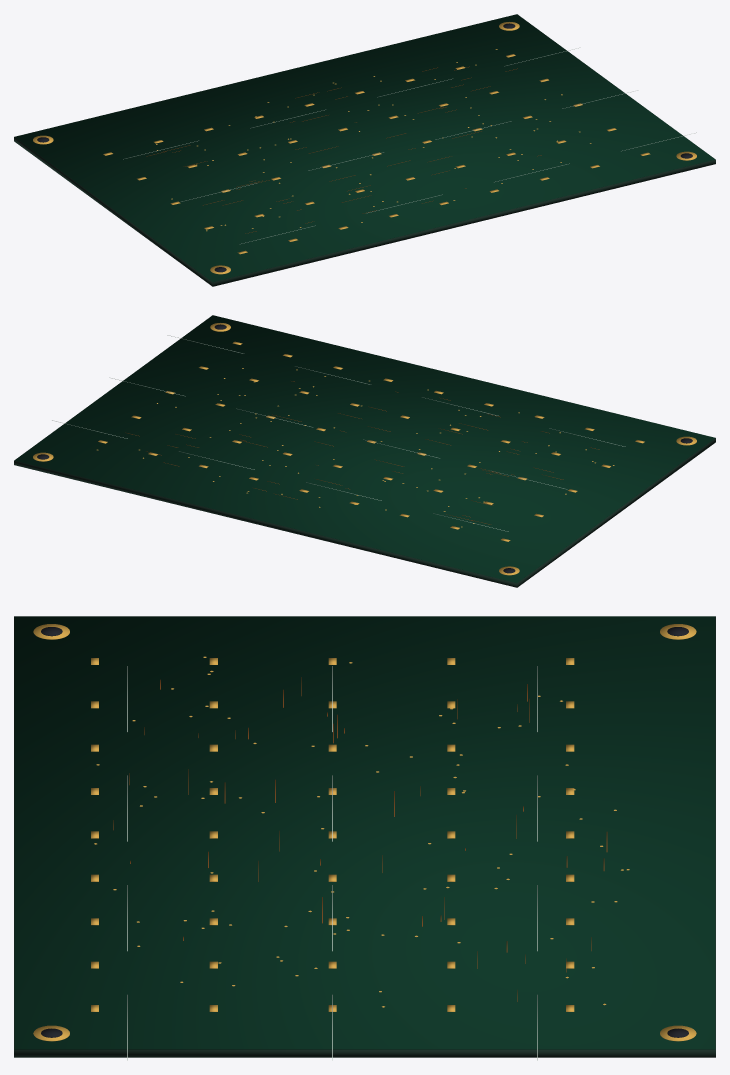
File: 63_L99_SBC7_Empty_FourLayer_PCB.fbx
3 renders of one model, top to bottom at view 1: azimuth 30°, elevation 25°; view 2: azimuth 150°, elevation 25°; view 3: azimuth 270°, elevation 25°, orthographic. The views are drawn at different scales.
Parts seen in each view (by area): view 1: Part_001, Part_000; view 2: Part_001, Part_000; view 3: Part_001, Part_000.
Boxes of the visible parts, left/top/right/bottom form: Part_001: left=15, top=14, right=715, bottom=281; Part_000: left=14, top=14, right=715, bottom=286; Part_001: left=14, top=315, right=714, bottom=582; Part_000: left=14, top=315, right=715, bottom=587; Part_001: left=14, top=616, right=715, bottom=1049; Part_000: left=14, top=616, right=715, bottom=1057.
Bounding box in the file's own units: 0.195 × 0.13 × 0.00175.
